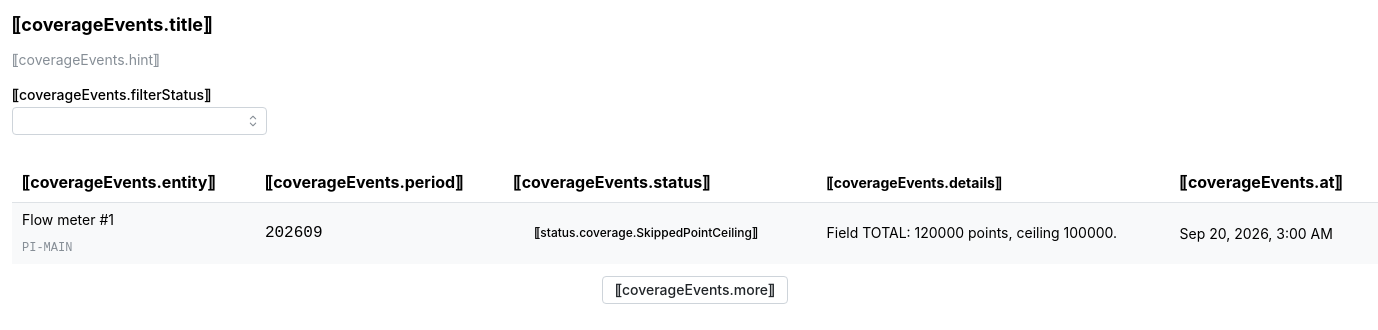
Test: CoverageEventsPanel › «Показати ще» дочитує за курсором і зникає, коли курсора немає
Check: the text "Flow meter #1" is shown, box [22, 211, 114, 228]
Click the button "⟦coverageEvents.more⟧". click: (695, 290)
box: [602, 276, 788, 304]
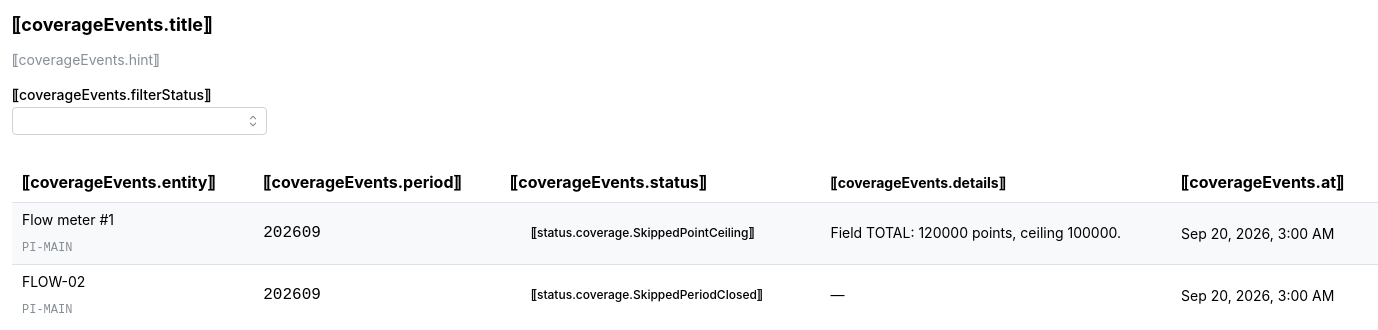
Check: the text "Flow meter #1" is shown, box [22, 211, 114, 228]
Check: the text "FLOW-02" is shown, box [22, 273, 85, 290]
